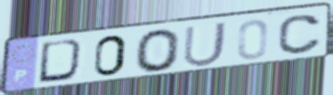0: (92, 34, 128, 78), (236, 18, 270, 61)
C: (276, 13, 325, 56)
D: (36, 37, 89, 85)
O: (133, 28, 182, 74)
U: (181, 19, 230, 69)
